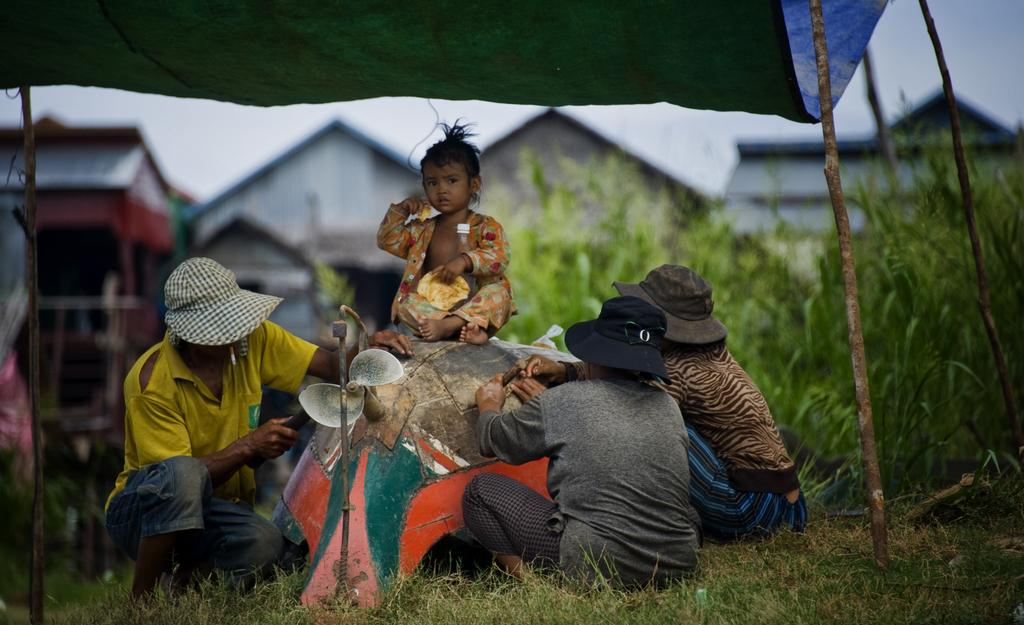Hat: (158, 254, 288, 346), (610, 261, 728, 345), (564, 296, 672, 385)
